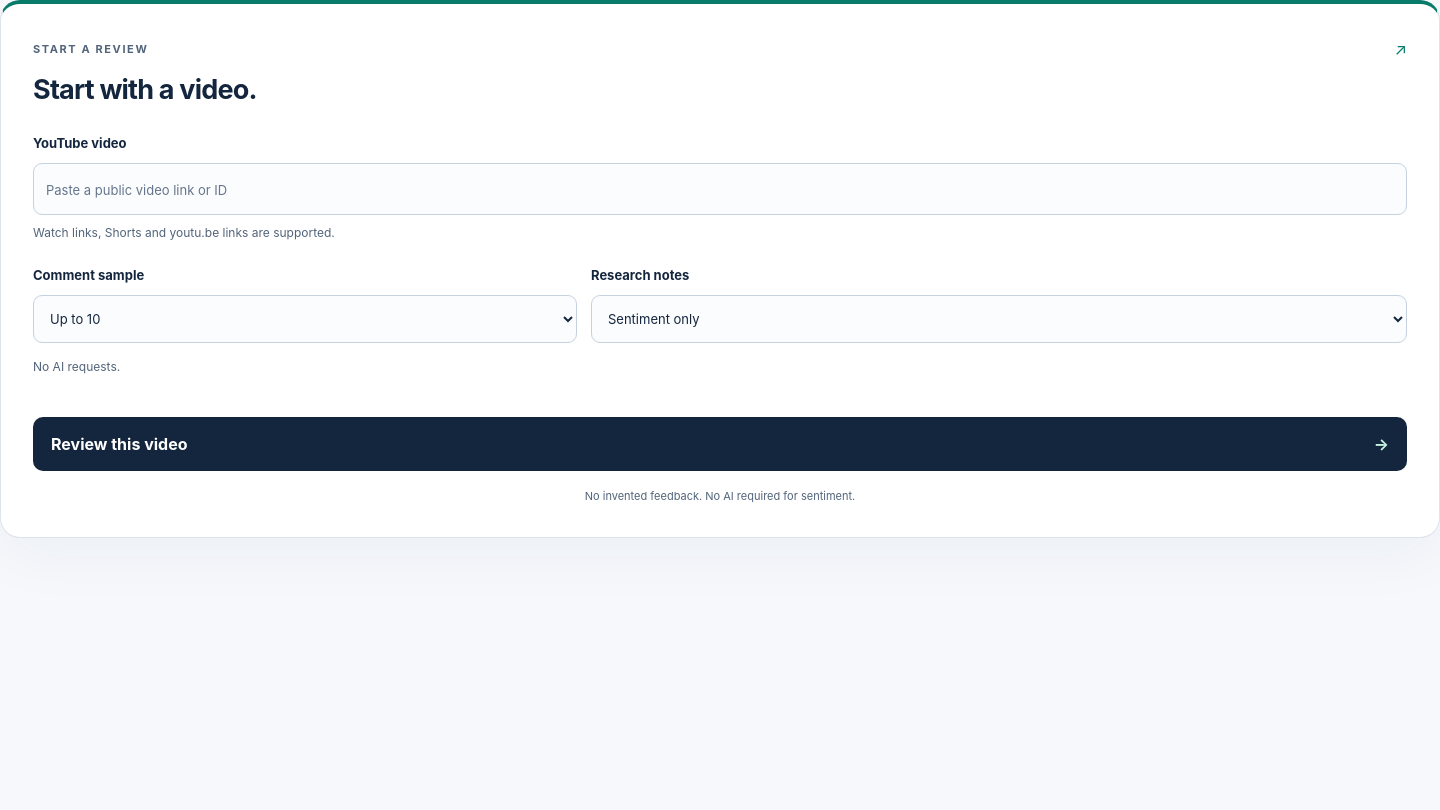
Test: explains client request timeout without automatically retrying
The image size is (1440, 810).
Type "aB3_dE5-fG7" into the field labelled "YouTube video" at (720, 189), box [33,163,1407,215]
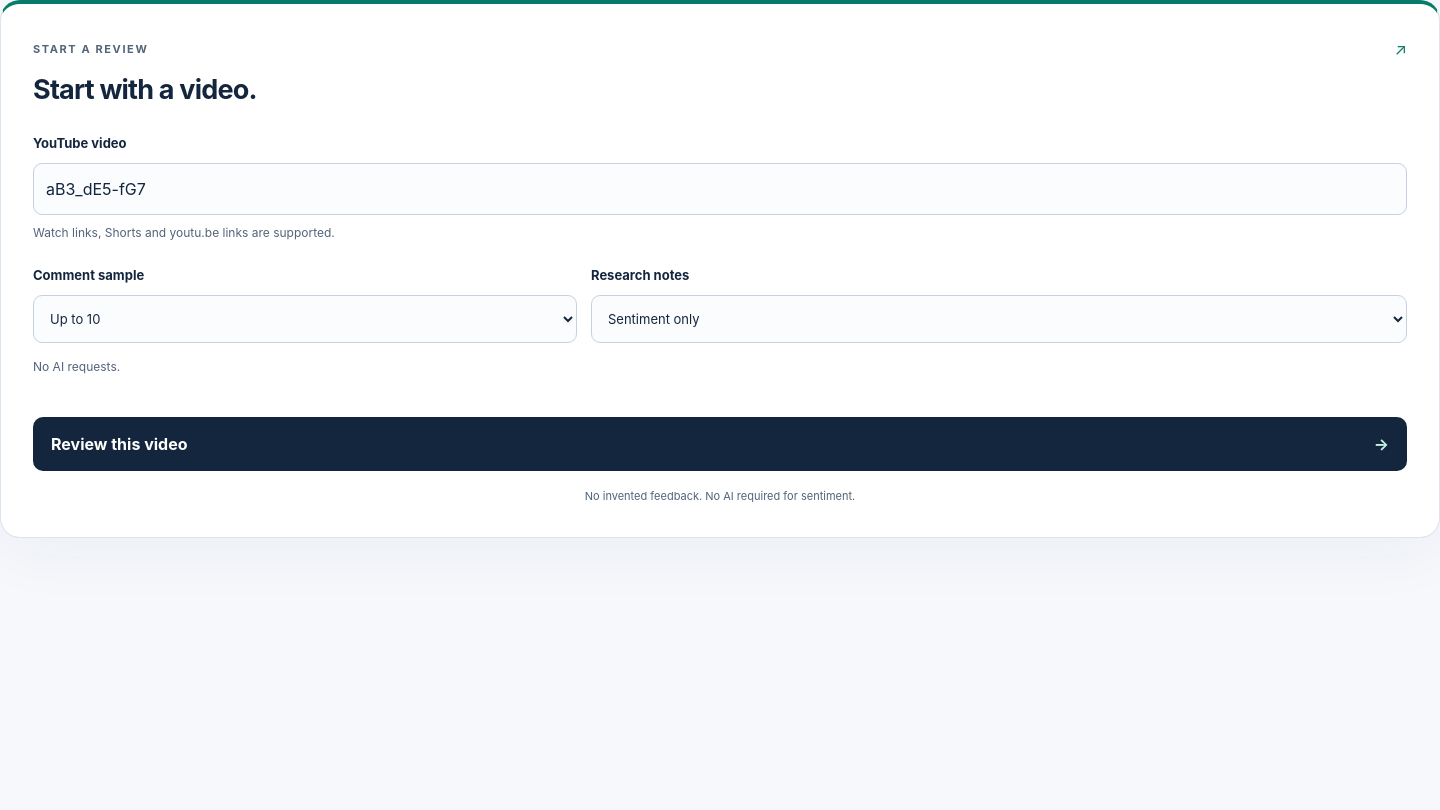
Click the button "Review this video →" at (119, 444), box [33,416,1407,471]
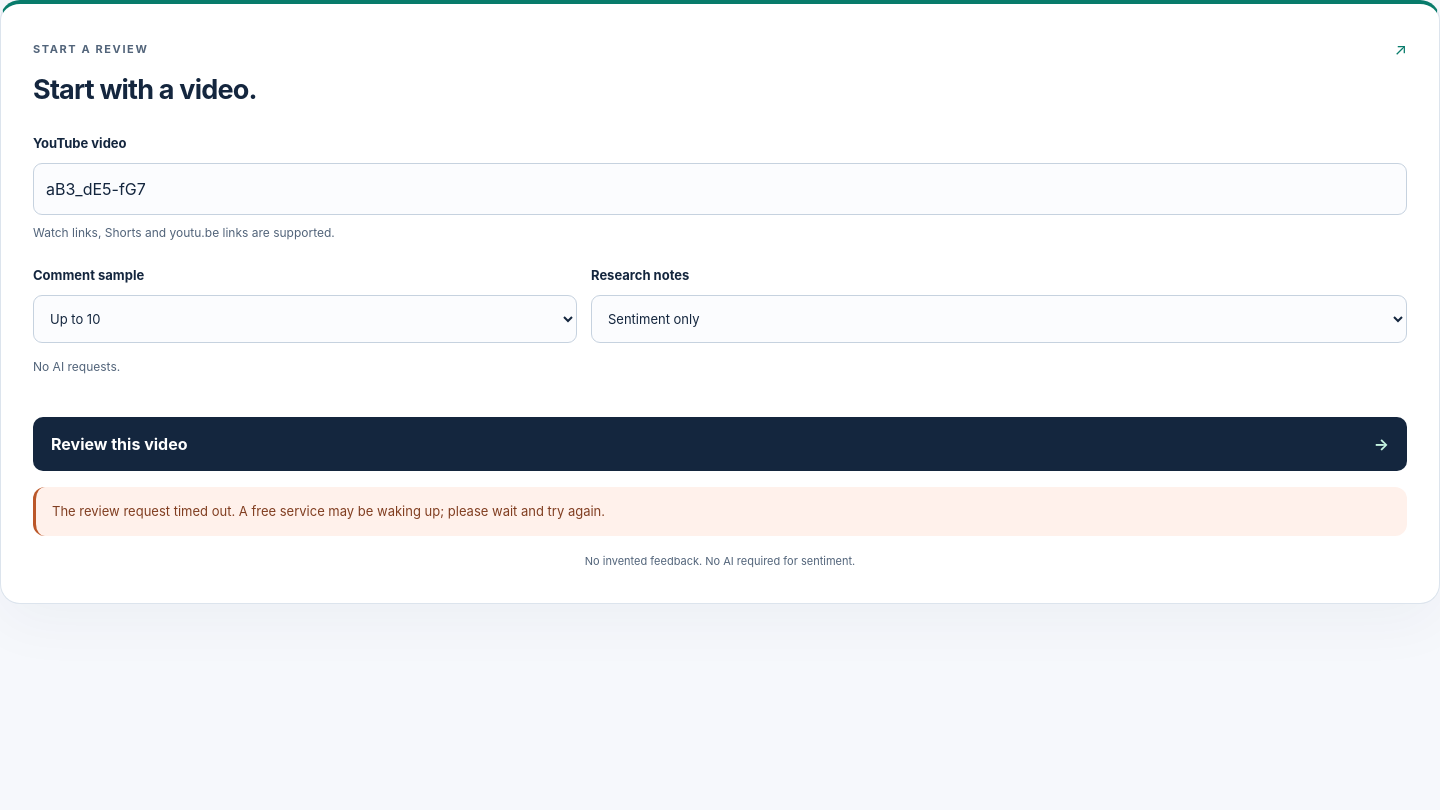
Check: the message does not show "private-timeout-details", box [33,487,1407,536]
Check: the message shows "timed out", box [52,503,605,519]
